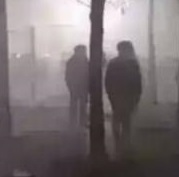person: (104, 40, 144, 154), (63, 43, 91, 129)
